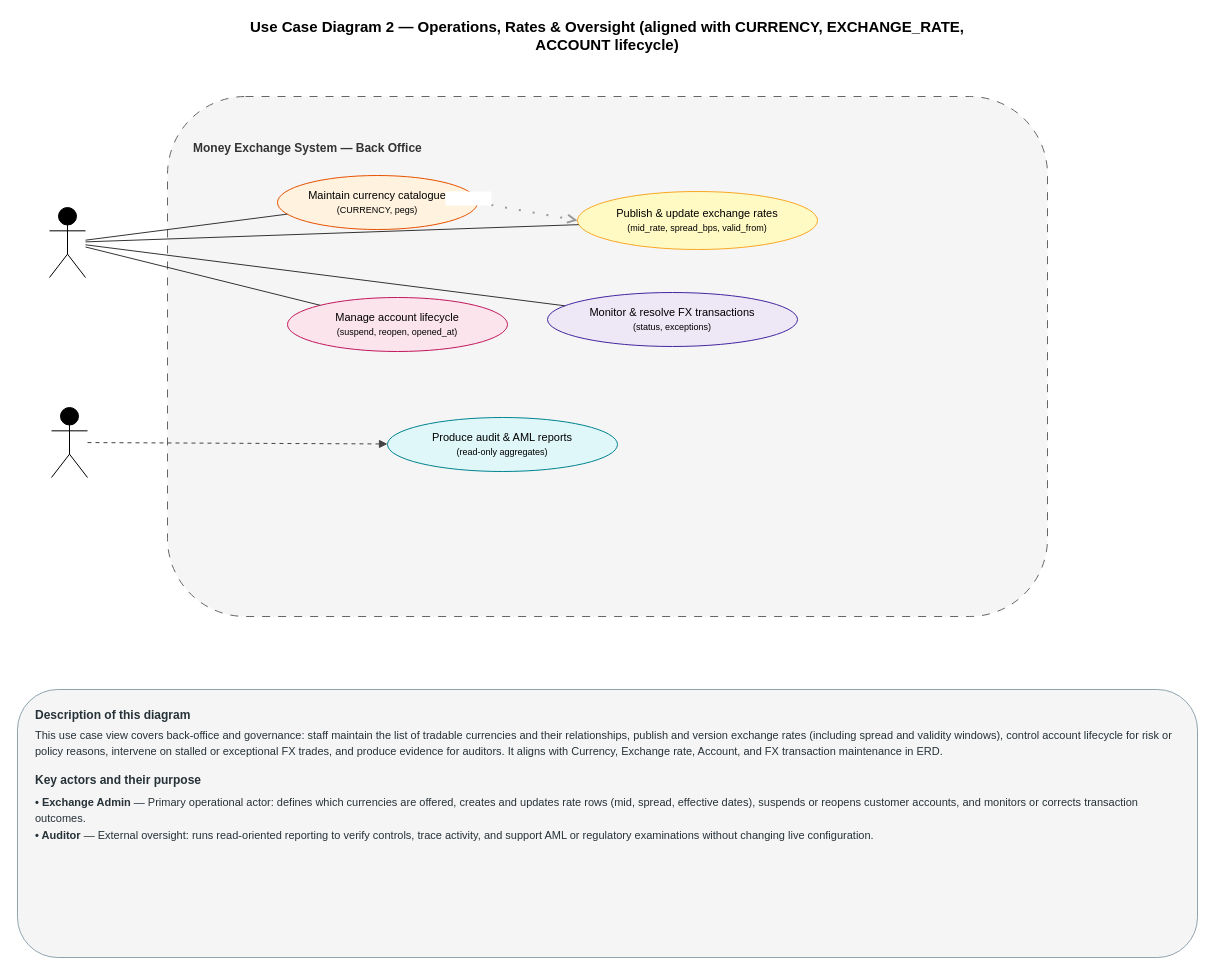
Some shapes in this 1215 by 975 pixel diagram are drawn without their labels. The shapes that lost their labels are listed below. From the top down, each one's centre as x and y in pixels, then its label:
the point at 468,198: «depends»
the point at 67,242: Exchange Admin
the point at 69,442: Auditor
